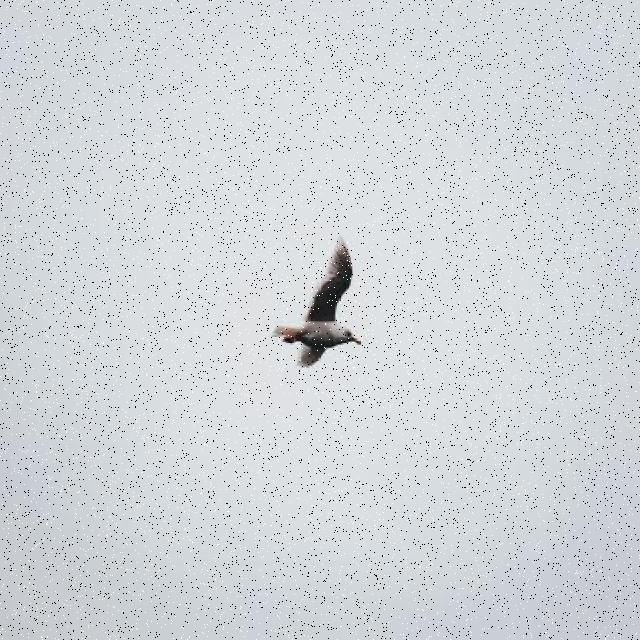bird: (272, 233, 361, 370)
